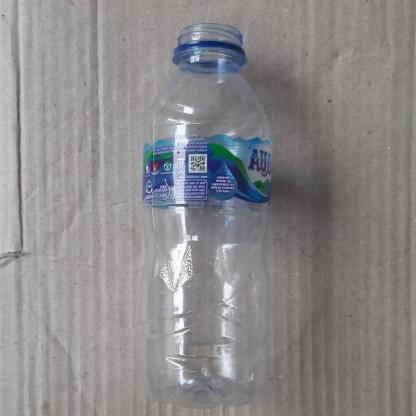Plastic Bottle: (142, 24, 272, 410)
